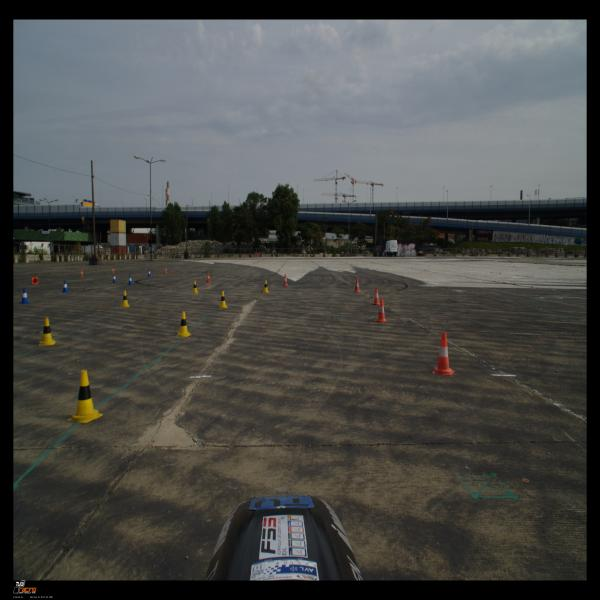blue_cone: (20, 288, 30, 304), (62, 280, 69, 293), (128, 275, 134, 285), (112, 274, 117, 283), (147, 269, 152, 277)
orange_cone: (432, 332, 455, 375), (375, 298, 387, 323), (372, 287, 380, 305), (354, 278, 360, 292), (282, 274, 288, 286), (79, 268, 84, 278), (32, 276, 38, 284), (206, 272, 210, 283), (164, 266, 168, 274), (111, 266, 115, 274)
yellow_cone: (67, 370, 103, 423), (38, 317, 56, 346), (175, 311, 192, 337), (120, 290, 130, 308), (218, 291, 228, 308), (262, 280, 270, 293), (192, 280, 199, 294)
